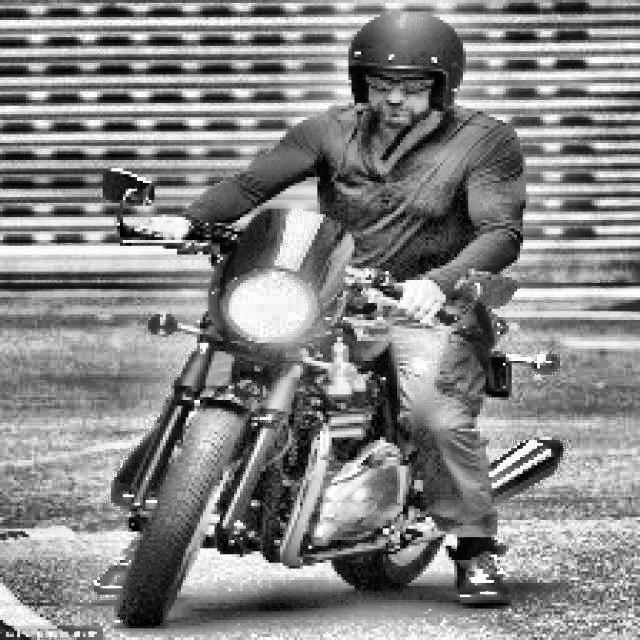motorcycle: (89, 156, 567, 627)
